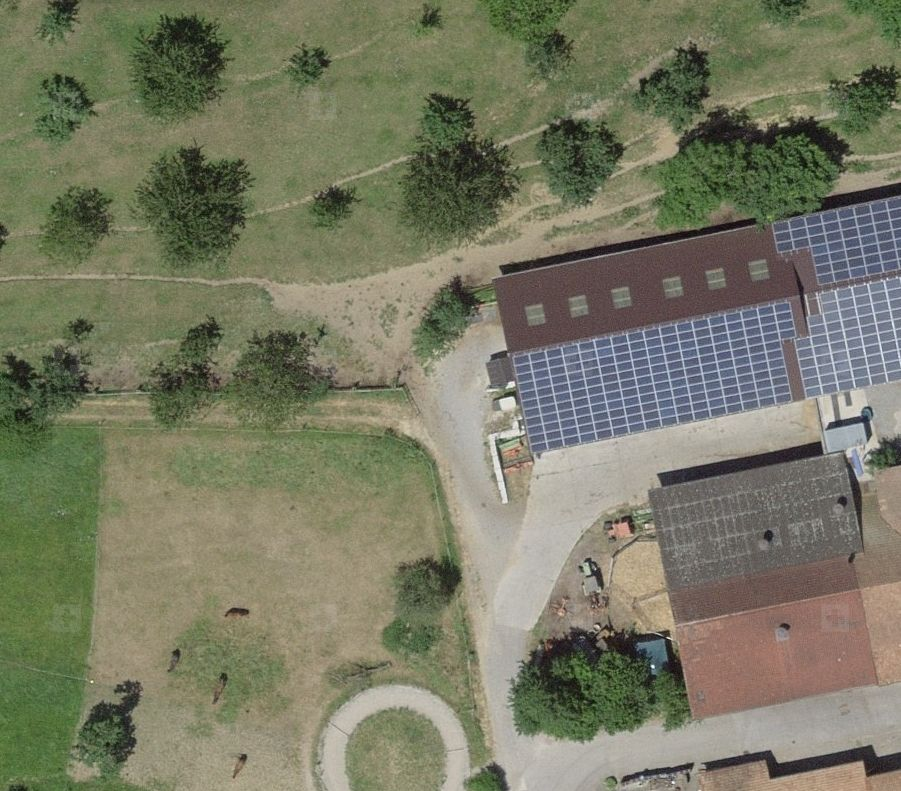solar: (511, 194, 901, 455)
